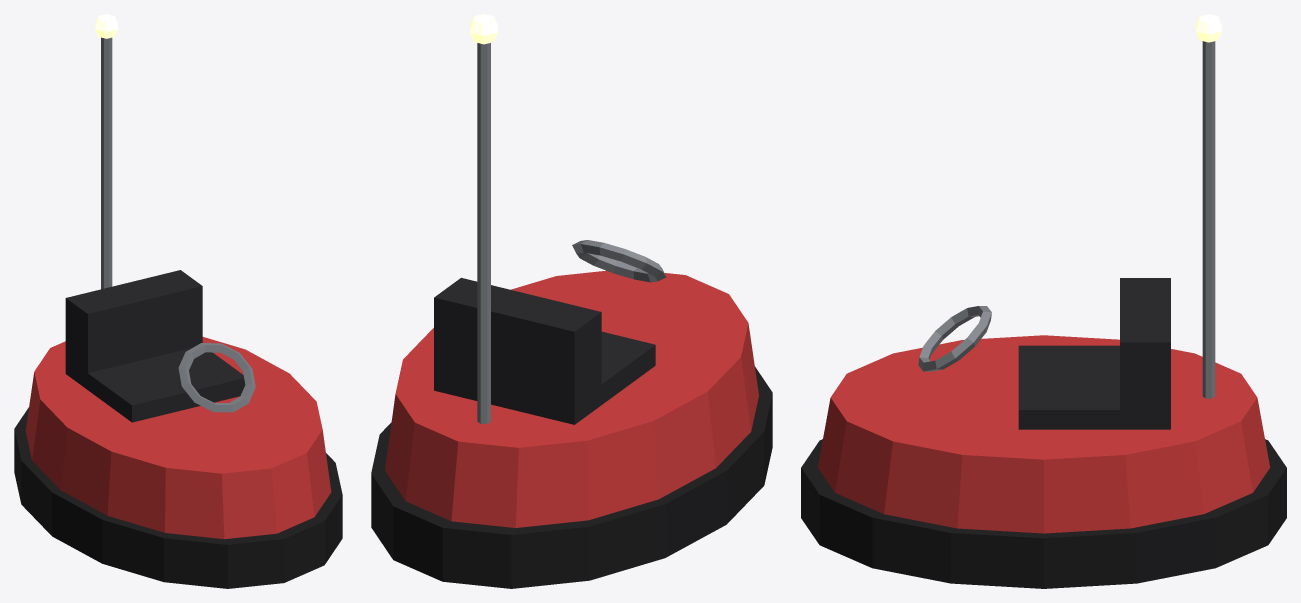
Rendered from bumper_car.glb.
The picture shows the model from 3 angles, left to right: view 1: azimuth 30°, elevation 25°; view 2: azimuth 150°, elevation 25°; view 3: azimuth 270°, elevation 25°; orthographic projection. The views are drawn at different scales.
Parts seen in each view (by area): view 1: body_bumper_body, seat_bumper_seat (×2), ring_bumper_rubber, pole_fair_steel, wheel_fair_steel, spark_fair_spark; view 2: body_bumper_body, ring_bumper_rubber, seat_bumper_seat (×2), pole_fair_steel, wheel_fair_steel, spark_fair_spark; view 3: body_bumper_body, ring_bumper_rubber, seat_bumper_seat (×2), pole_fair_steel, wheel_fair_steel, spark_fair_spark.
Part boxes in pixels (<box>): body_bumper_body: <box>25,337,331,539</box>; seat_bumper_seat (×2): <box>65,270,245,422</box>; ring_bumper_rubber: <box>14,407,342,588</box>; pole_fair_steel: <box>101,37,112,289</box>; wheel_fair_steel: <box>178,343,255,412</box>; spark_fair_spark: <box>95,14,117,38</box>; body_bumper_body: <box>385,270,758,527</box>; ring_bumper_rubber: <box>371,367,772,588</box>; seat_bumper_seat (×2): <box>434,277,655,424</box>; pole_fair_steel: <box>477,43,490,423</box>; wheel_fair_steel: <box>572,240,666,282</box>; spark_fair_spark: <box>470,14,497,44</box>; body_bumper_body: <box>817,335,1270,533</box>; ring_bumper_rubber: <box>801,439,1286,588</box>; seat_bumper_seat (×2): <box>1018,278,1170,429</box>; pole_fair_steel: <box>1202,41,1215,398</box>; wheel_fair_steel: <box>918,306,991,371</box>; spark_fair_spark: <box>1195,14,1221,42</box>.
Bounding box in the file's own units: 1.32 × 2.19 × 1.91.
